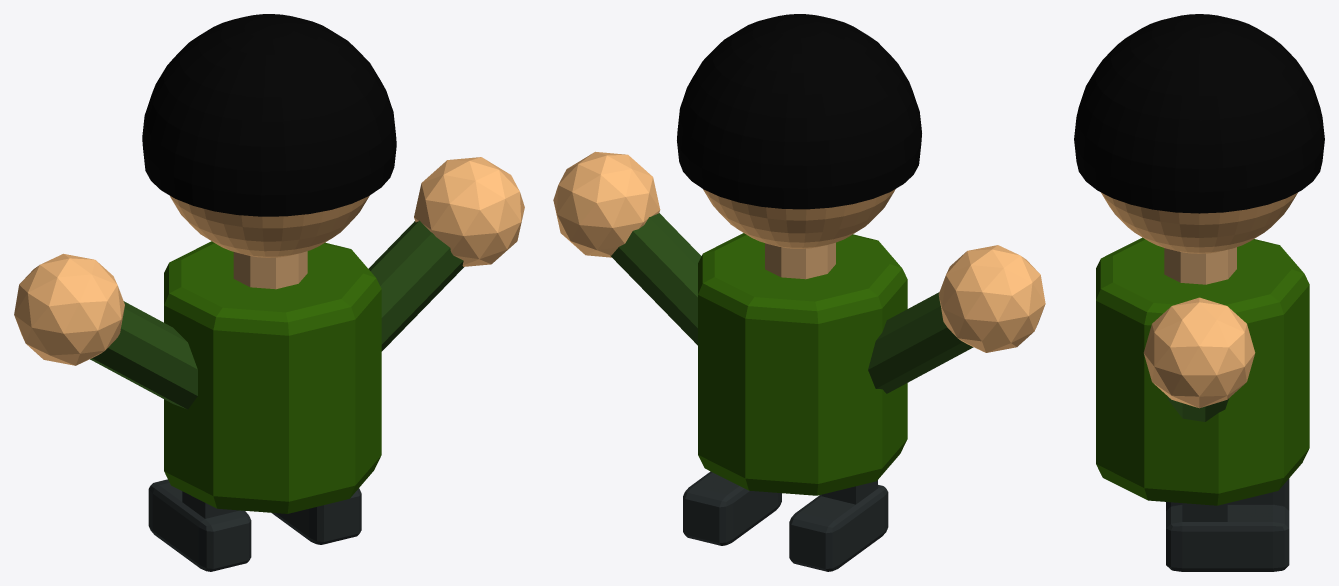
File: manGreen.fbx
3 views of the same model, side by side, from view 1: azimuth 30°, elevation 25°; view 2: azimuth 150°, elevation 25°; view 3: azimuth 270°, elevation 25° (orthographic). The views are drawn at different scales.
Parts seen in each view (by area): view 1: Cylinder.003, Sphere.003, Icosphere.001, Cylinder.004, Cube.001, Sphere.002, Cylinder.005; view 2: Cylinder.003, Sphere.003, Icosphere.001, Cylinder.004, Cube.001, Sphere.002, Cylinder.005; view 3: Cylinder.003, Sphere.003, Icosphere.001, Cube.001, Sphere.002, Cylinder.005, Cylinder.004.
Part boxes in pixels (<box>): Cylinder.003: <box>164,241,381,513</box>; Sphere.003: <box>142,14,396,216</box>; Icosphere.001: <box>14,157,524,365</box>; Cylinder.004: <box>90,220,463,409</box>; Cube.001: <box>148,479,361,571</box>; Sphere.002: <box>170,195,369,257</box>; Cylinder.005: <box>233,251,307,289</box>; Cylinder.003: <box>698,233,907,495</box>; Sphere.003: <box>677,14,921,209</box>; Icosphere.001: <box>553,151,1045,352</box>; Cylinder.004: <box>610,213,973,393</box>; Cube.001: <box>683,471,888,571</box>; Sphere.002: <box>703,189,895,248</box>; Cylinder.005: <box>765,242,835,279</box>; Cylinder.003: <box>1096,237,1309,505</box>; Sphere.003: <box>1074,14,1324,213</box>; Icosphere.001: <box>1143,297,1255,408</box>; Cube.001: <box>1166,478,1289,571</box>; Sphere.002: <box>1101,192,1297,253</box>; Cylinder.005: <box>1164,247,1236,284</box>; Cylinder.004: <box>1167,396,1228,421</box>.
Size of the model in its own units: 508 by 511 by 227.
